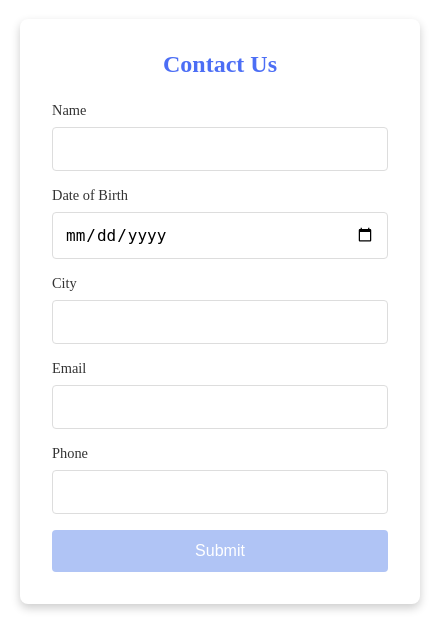
Test: ContactPage › enables the submit button when the form is valid and shows success message upon submission
The width and height of the screenshot is (441, 638).
In the field labelled "Name": (220, 148) x1=52 y1=126 x2=388 y2=170, type "John Doe"
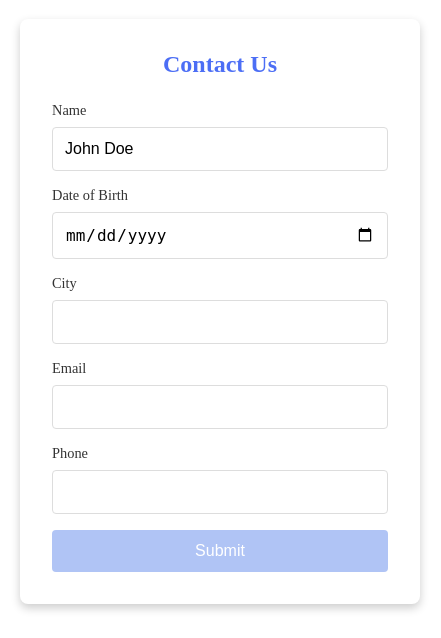
In the date field labelled "Date of Birth": (220, 235) x1=52 y1=212 x2=388 y2=258, type "1990-01-01"
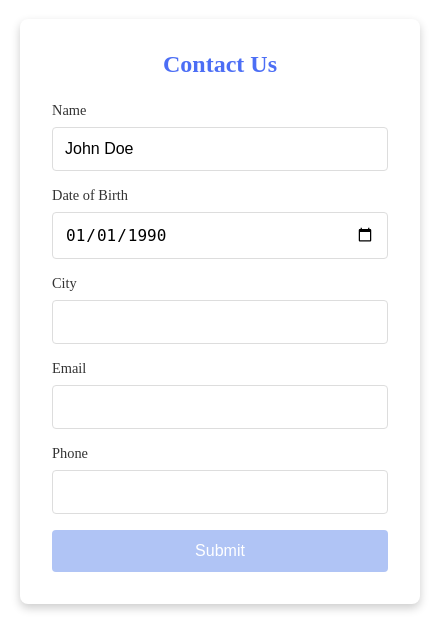
In the field labelled "City": (220, 322) x1=52 y1=300 x2=388 y2=344, type "Madrid"
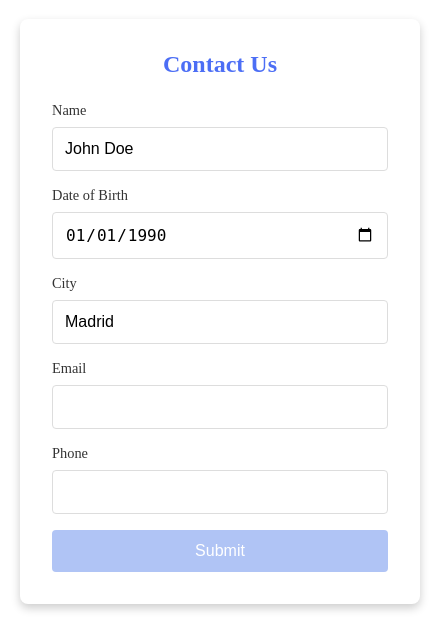
In the field labelled "Email": (220, 406) x1=52 y1=384 x2=388 y2=428, type "john@example.com"
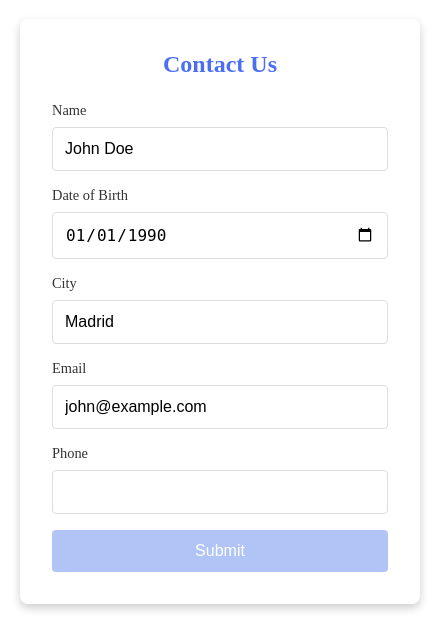
In the field labelled "Phone": (220, 492) x1=52 y1=470 x2=388 y2=514, type "612345678"
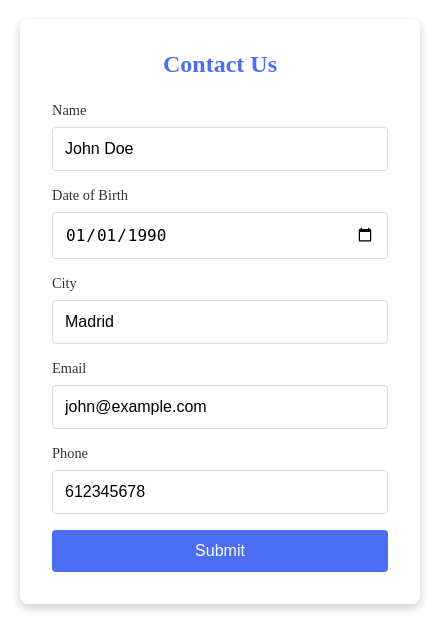
Expected: the button "Submit" is enabled
Click the button "Submit": (220, 550) x1=52 y1=530 x2=388 y2=572
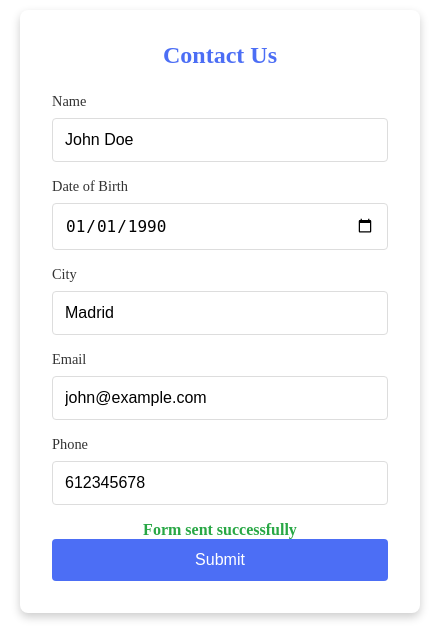
Expected: the text "Form sent successfully" is shown, x1=143 y1=520 x2=297 y2=538
